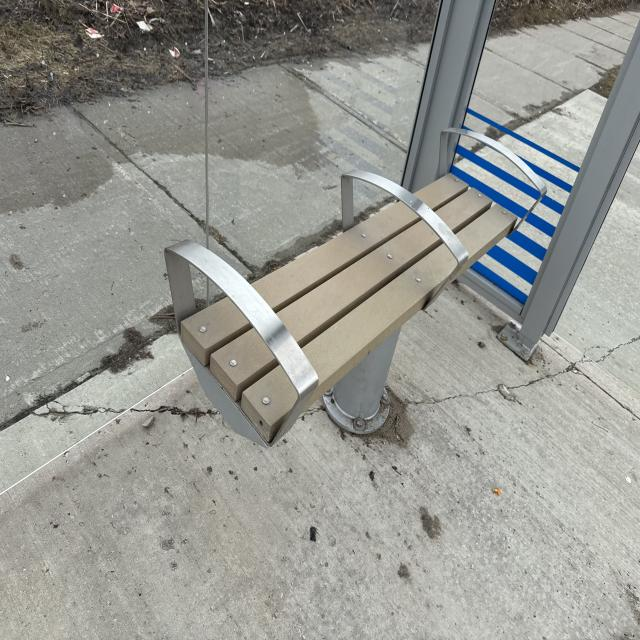Bench: (162, 119, 548, 443)
